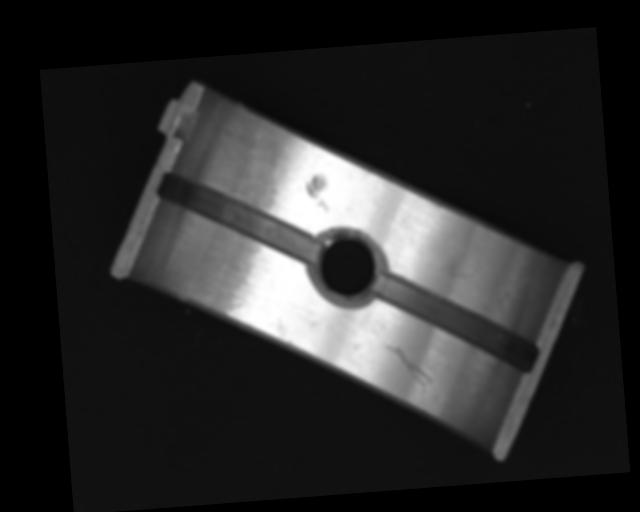bruise: (305, 171, 329, 214)
gap: (374, 262, 541, 383), (158, 161, 317, 276)
hole: (310, 227, 389, 305)
nick: (385, 337, 433, 390), (448, 270, 476, 277)
